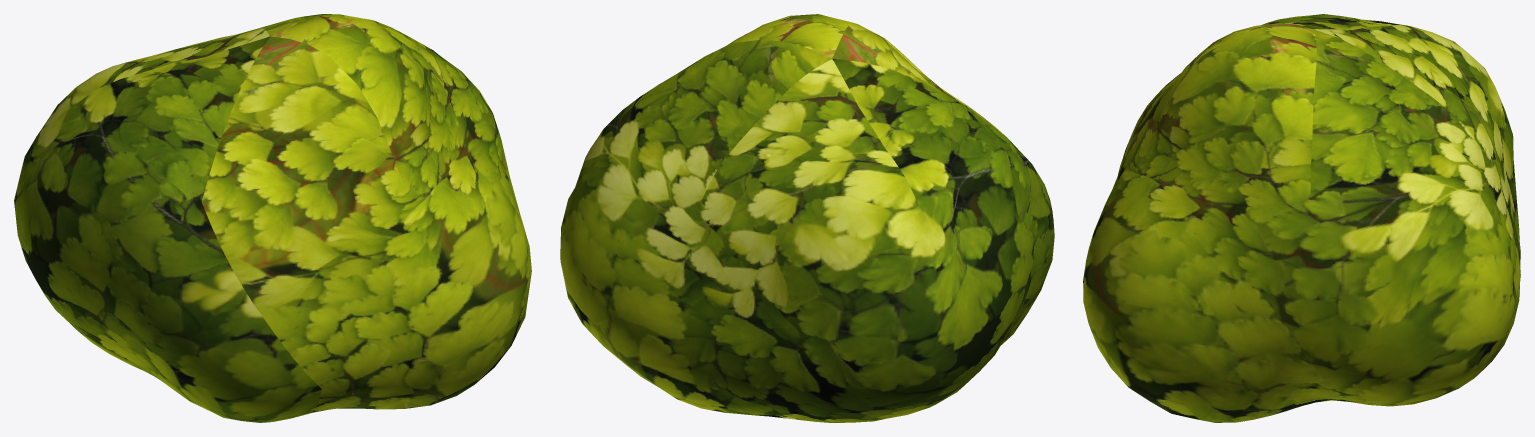
File: treeHead.fbx
The picture shows the model from 3 angles, left to right: view 1: azimuth 30°, elevation 25°; view 2: azimuth 150°, elevation 25°; view 3: azimuth 270°, elevation 25°; orthographic projection. The views are drawn at different scales.
Visible parts, largest first — view 1: Icosphere; view 2: Icosphere; view 3: Icosphere.
Boxes of the visible parts, x1=… form: Icosphere: x1=14, y1=14, x2=531, y2=422; Icosphere: x1=560, y1=14, x2=1054, y2=422; Icosphere: x1=1083, y1=14, x2=1520, y2=422.
Size of the model in its own units: 250 by 201 by 222.
